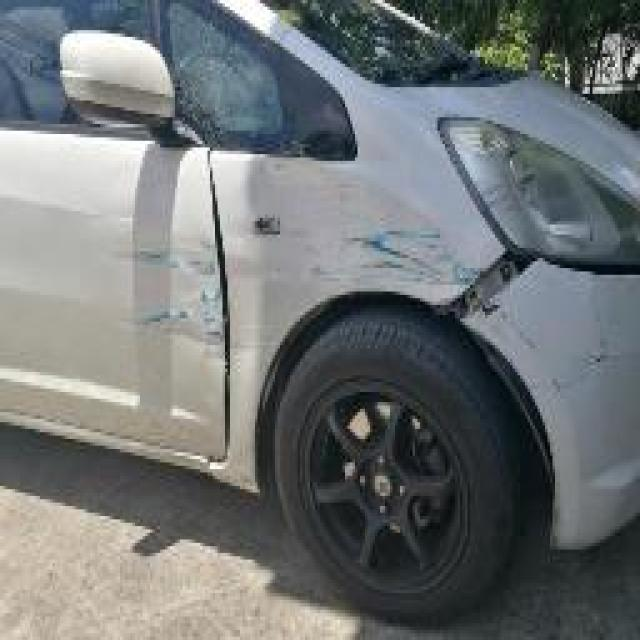Bumper: (466, 255, 640, 575)
Door: (70, 163, 229, 469)
Fender: (200, 153, 501, 499)
